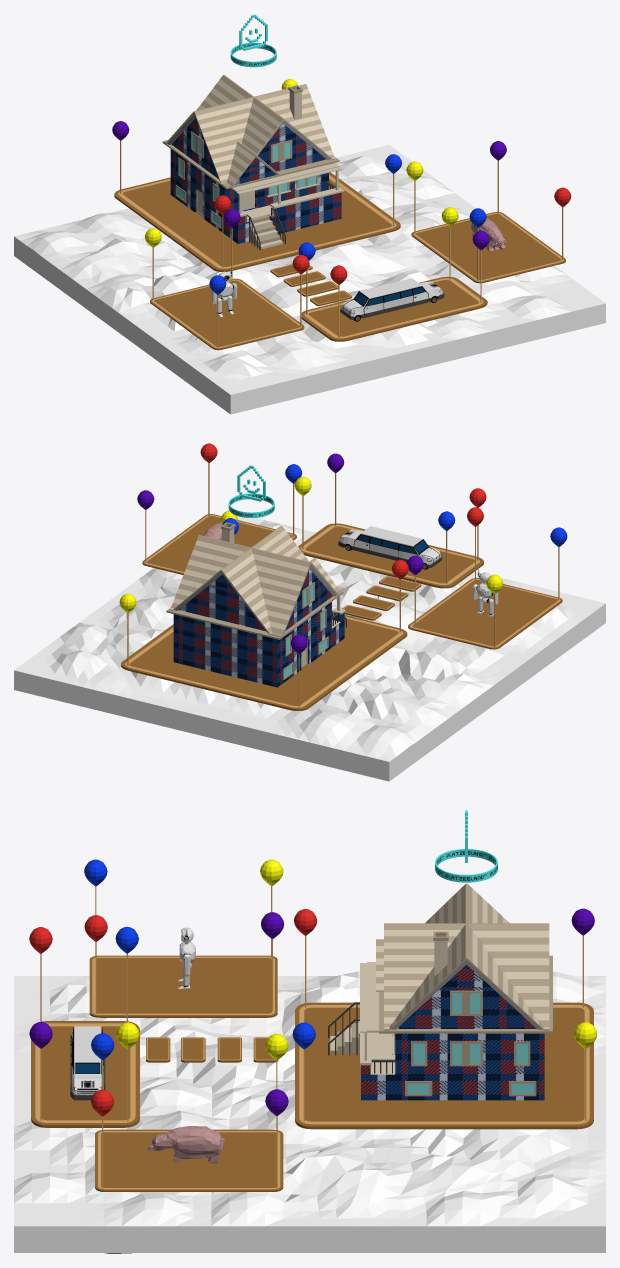
3 views of the same model, one above another, from view 1: azimuth 30°, elevation 25°; view 2: azimuth 150°, elevation 25°; view 3: azimuth 270°, elevation 25° (orthographic). The views are drawn at different scales.
Visible parts, largest first — view 1: Cube.013, Cube.171, VEHICLES_LIMOUSINE, TYPE_PREMIUM, OBJRANDOM_PLATZEEBOT, ANIMAL_HIPOPOTAMO; view 2: Cube.013, Cube.171, VEHICLES_LIMOUSINE, TYPE_PREMIUM, OBJRANDOM_PLATZEEBOT; view 3: Cube.013, Cube.171, VEHICLES_LIMOUSINE, ANIMAL_HIPOPOTAMO, TYPE_PREMIUM, OBJRANDOM_PLATZEEBOT.
Part boxes in pixels (bbox=[...]): Cube.013: bbox=[14, 79, 605, 414]; Cube.171: bbox=[162, 75, 344, 250]; VEHICLES_LIMOUSINE: bbox=[340, 278, 444, 321]; TYPE_PREMIUM: bbox=[230, 14, 276, 67]; OBJRANDOM_PLATZEEBOT: bbox=[211, 267, 237, 316]; ANIMAL_HIPOPOTAMO: bbox=[471, 218, 506, 251]; Cube.013: bbox=[14, 443, 605, 781]; Cube.171: bbox=[166, 522, 346, 687]; VEHICLES_LIMOUSINE: bbox=[338, 526, 442, 569]; TYPE_PREMIUM: bbox=[228, 465, 274, 517]; OBJRANDOM_PLATZEEBOT: bbox=[473, 568, 498, 616]; Cube.013: bbox=[14, 859, 605, 1252]; Cube.171: bbox=[328, 883, 552, 1100]; VEHICLES_LIMOUSINE: bbox=[70, 1026, 105, 1100]; ANIMAL_HIPOPOTAMO: bbox=[148, 1126, 224, 1163]; TYPE_PREMIUM: bbox=[435, 810, 497, 882]; OBJRANDOM_PLATZEEBOT: bbox=[178, 927, 195, 989].
Size of the model in its own units: 4000 by 2416 by 4000.
Materials: 33 (3 with a texture image).
